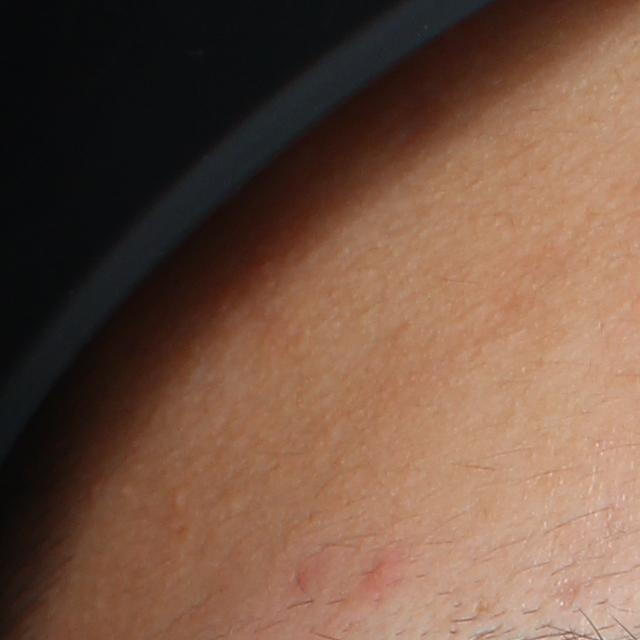atrophic_scar: (556, 577, 581, 614)
comedo: (169, 489, 184, 510)
